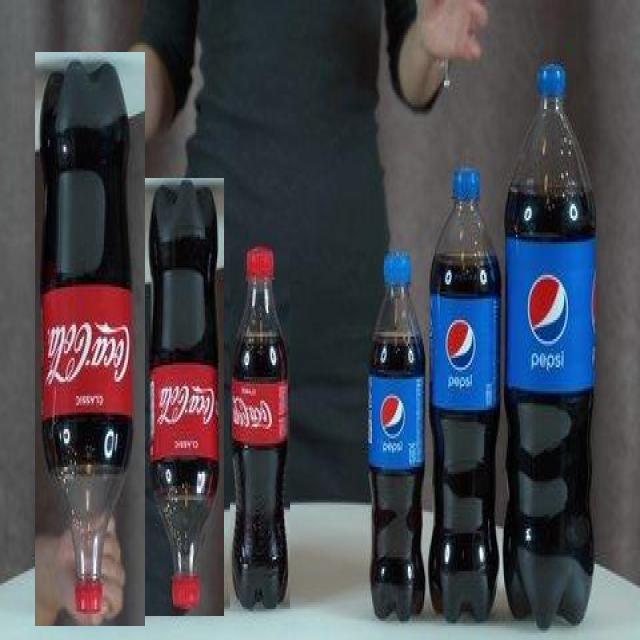coca-cola: (35, 52, 145, 626), (145, 178, 224, 616), (230, 242, 290, 609)
